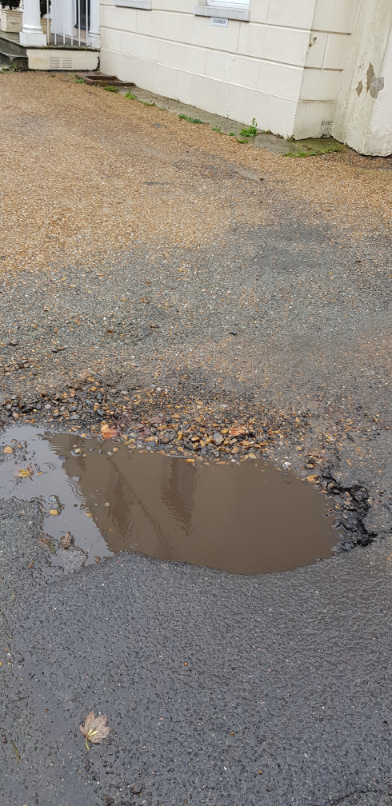pothole: (0, 391, 387, 578)
